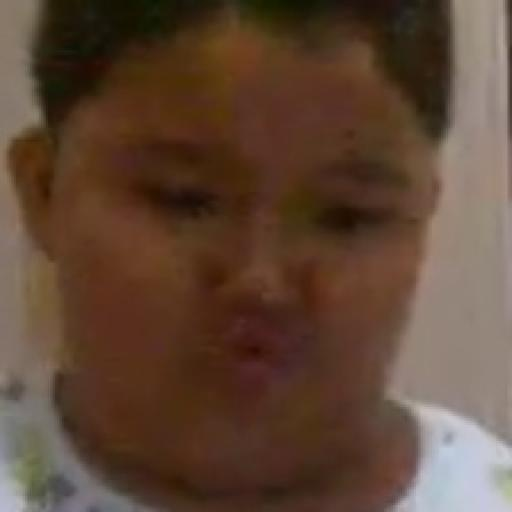Autism: (25, 5, 444, 512)
